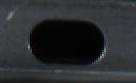holes: (28, 18, 108, 66)
